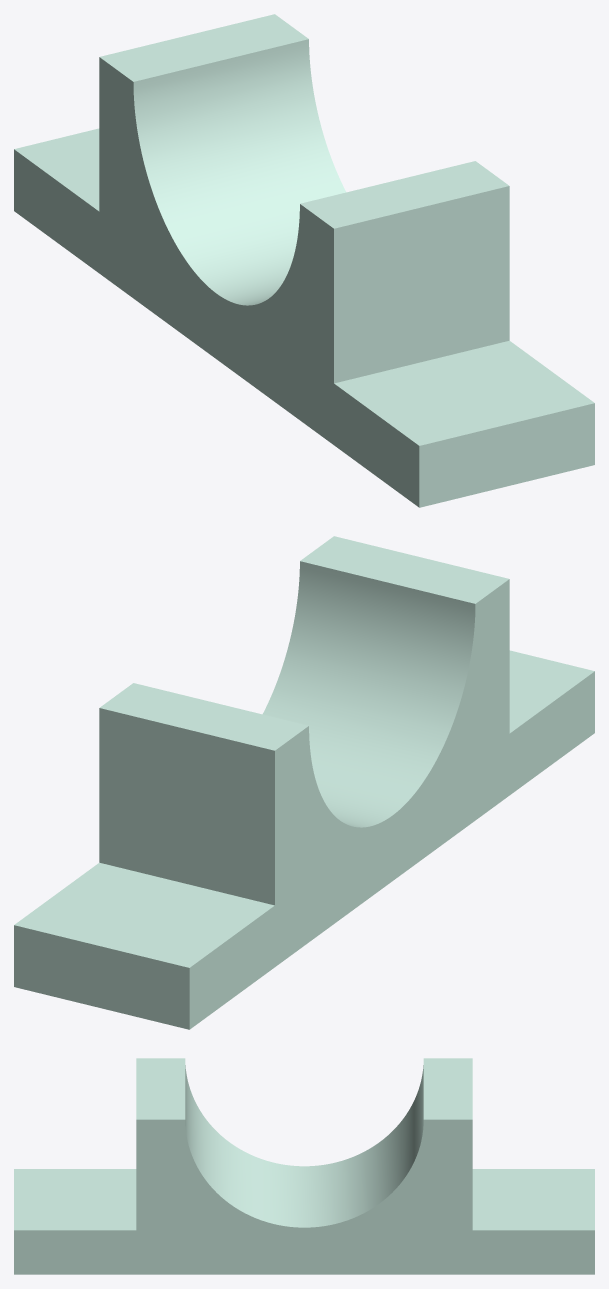
The picture shows the model from 3 angles, top to bottom: view 1: azimuth 30°, elevation 25°; view 2: azimuth 150°, elevation 25°; view 3: azimuth 270°, elevation 25°; orthographic projection. The views are drawn at different scales.
Visible parts, largest first — view 1: Renderer Node; view 2: Renderer Node; view 3: Renderer Node.
Part boxes in pixels (x1,y1,x2,y2): Renderer Node: [14, 14, 594, 507]; Renderer Node: [14, 536, 594, 1029]; Renderer Node: [14, 1058, 594, 1274].
Size of the model in its own units: 0.2188 by 0.2579 by 0.875.
